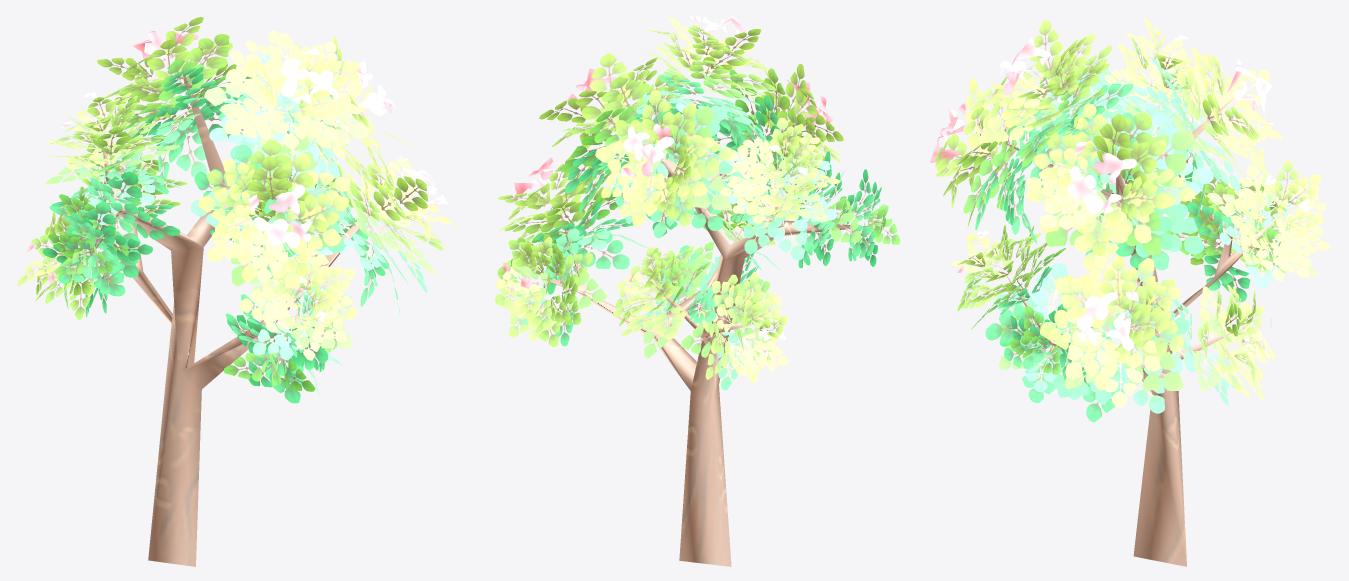
The model's file is Tree_01.fbx.
The picture shows the model from 3 angles, left to right: view 1: azimuth 30°, elevation 25°; view 2: azimuth 150°, elevation 25°; view 3: azimuth 270°, elevation 25°; orthographic projection. The views are drawn at different scales.
Parts seen in each view (by area): view 1: TRW2; view 2: TRW2; view 3: TRW2.
Boxes of the visible parts, box(x1,y1,x2,y2) form: TRW2: box(17, 17, 460, 566); TRW2: box(495, 15, 900, 566); TRW2: box(930, 18, 1330, 566).
Size of the model in its own units: 620 by 764 by 511.
